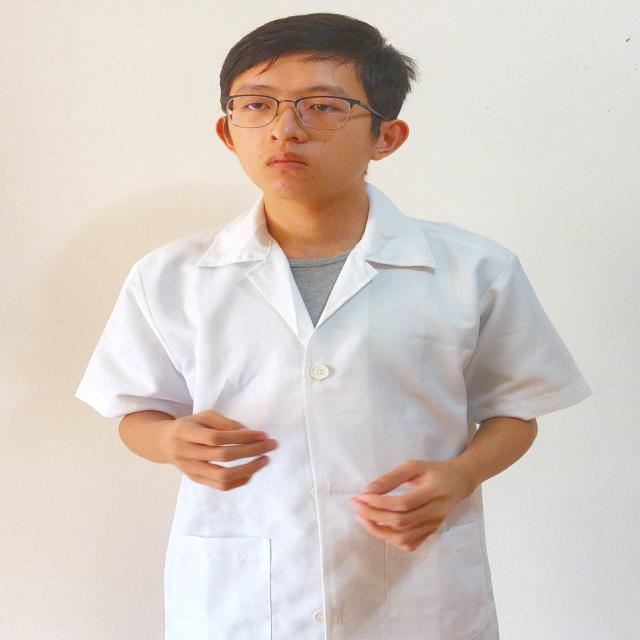person_with_labcoat: (77, 14, 590, 640)
